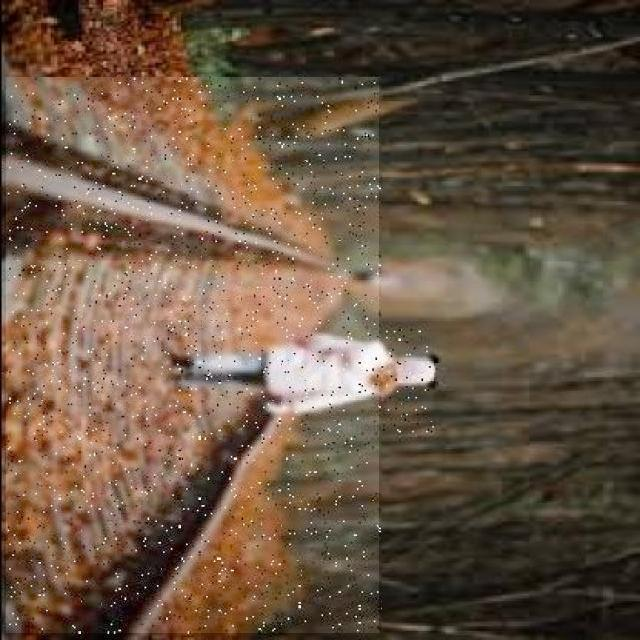rail: (7, 78, 380, 634)
